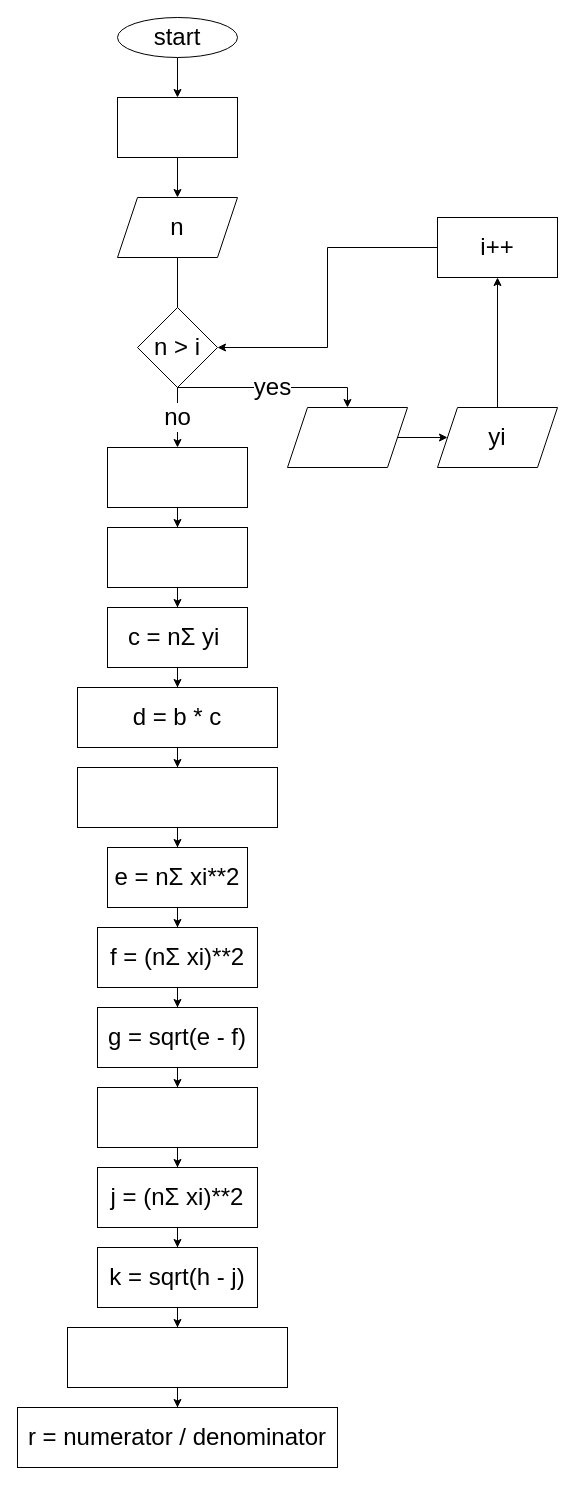
Image size: 575x1485. Some labels were removed from this diagram. Each missing label, with the centre of its shape:
"a = nΣ xi * yi" goes at (x=177, y=477).
"b = nΣ xi" goes at (x=177, y=557).
"denominator = g * k" goes at (x=177, y=1357).
"h = nΣ yi**2" goes at (x=177, y=1117).
"i = 0" goes at (x=177, y=127).
"numerator = a - d" goes at (x=177, y=797).
"xi" goes at (x=347, y=437).
